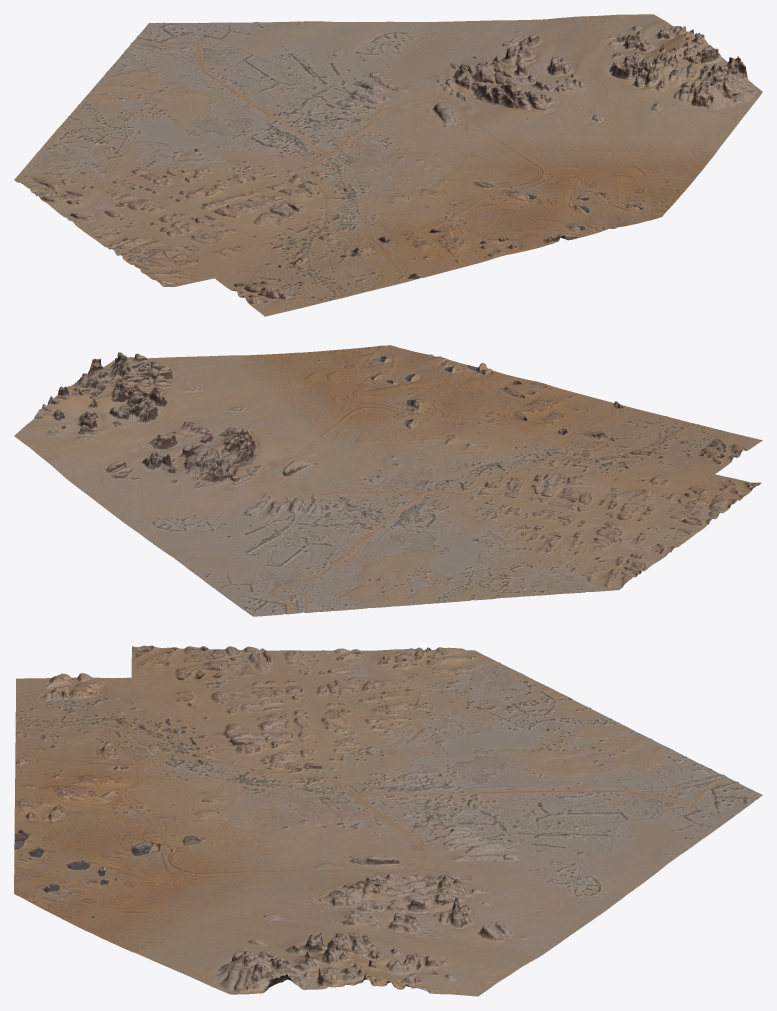
3 views of the same model, one above another, from view 1: azimuth 30°, elevation 25°; view 2: azimuth 150°, elevation 25°; view 3: azimuth 270°, elevation 25° (orthographic). The views are drawn at different scales.
Visible parts, largest first — view 1: SAU_001_M6_Landscape_LP; view 2: SAU_001_M6_Landscape_LP; view 3: SAU_001_M6_Landscape_LP.
Part boxes in pixels (x1,y1,x2,y2): SAU_001_M6_Landscape_LP: [14, 14, 762, 316]; SAU_001_M6_Landscape_LP: [14, 345, 762, 616]; SAU_001_M6_Landscape_LP: [14, 645, 762, 996].
Size of the model in its own units: 4868 by 223 by 4329.
1 material, 1 textured.
